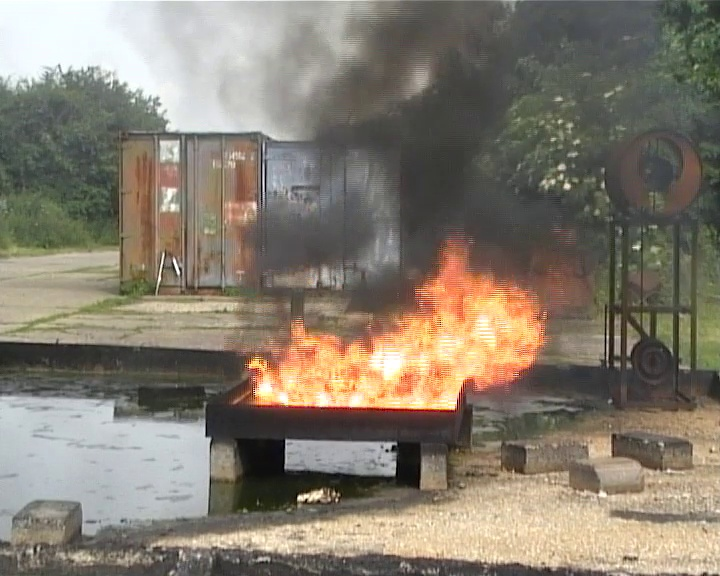fire: (248, 240, 541, 407)
